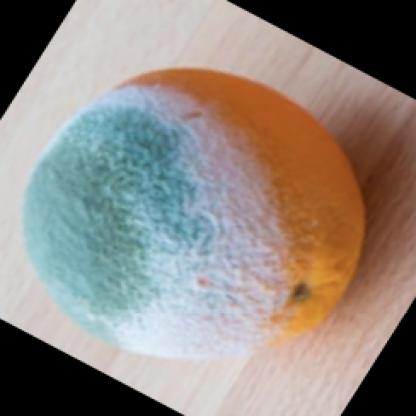rotten: (26, 68, 368, 367)
